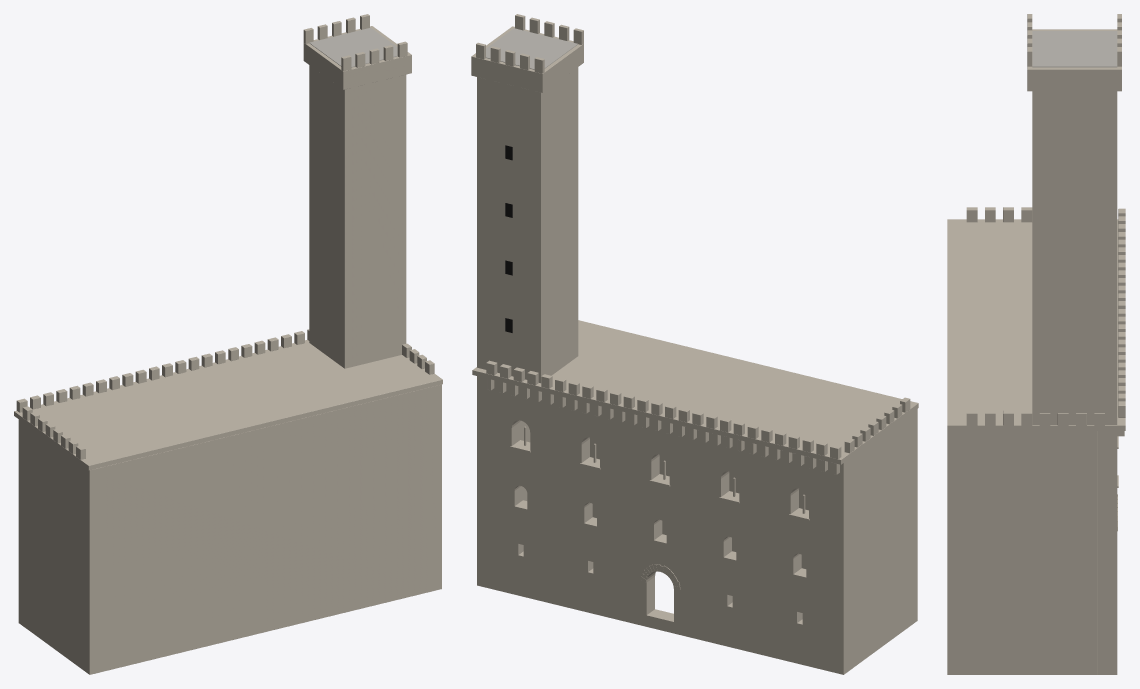
The model's file is palazzo_popolo.glb.
3 renders of one model, left to right at view 1: azimuth 30°, elevation 25°; view 2: azimuth 150°, elevation 25°; view 3: azimuth 270°, elevation 25°, orthographic. The views are drawn at different scales.
Visible parts, largest first — view 1: palazzo_popolo; view 2: palazzo_popolo; view 3: palazzo_popolo.
Boxes of the visible parts, x1,y1,x2,y2 form: palazzo_popolo: [14, 14, 442, 674]; palazzo_popolo: [471, 14, 918, 674]; palazzo_popolo: [947, 14, 1125, 674].
Size of the model in its own units: 40.5 by 56.6 by 14.7.
